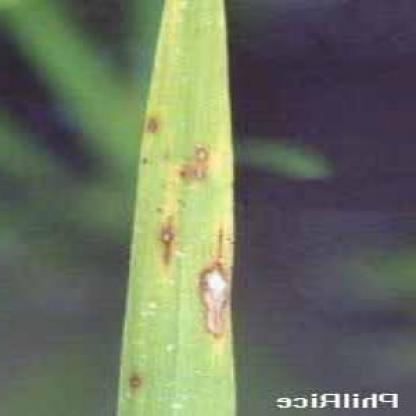Rice blast: (204, 263, 233, 349), (153, 215, 187, 270), (176, 143, 213, 190)
